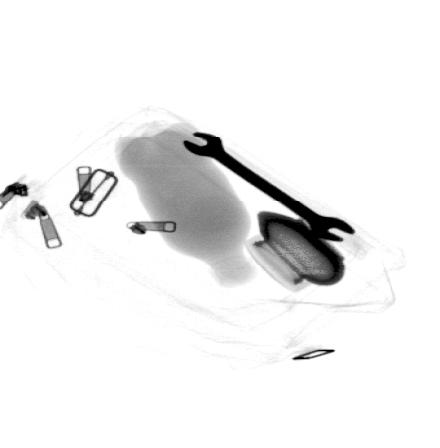Wrench: (181, 129, 356, 244)
